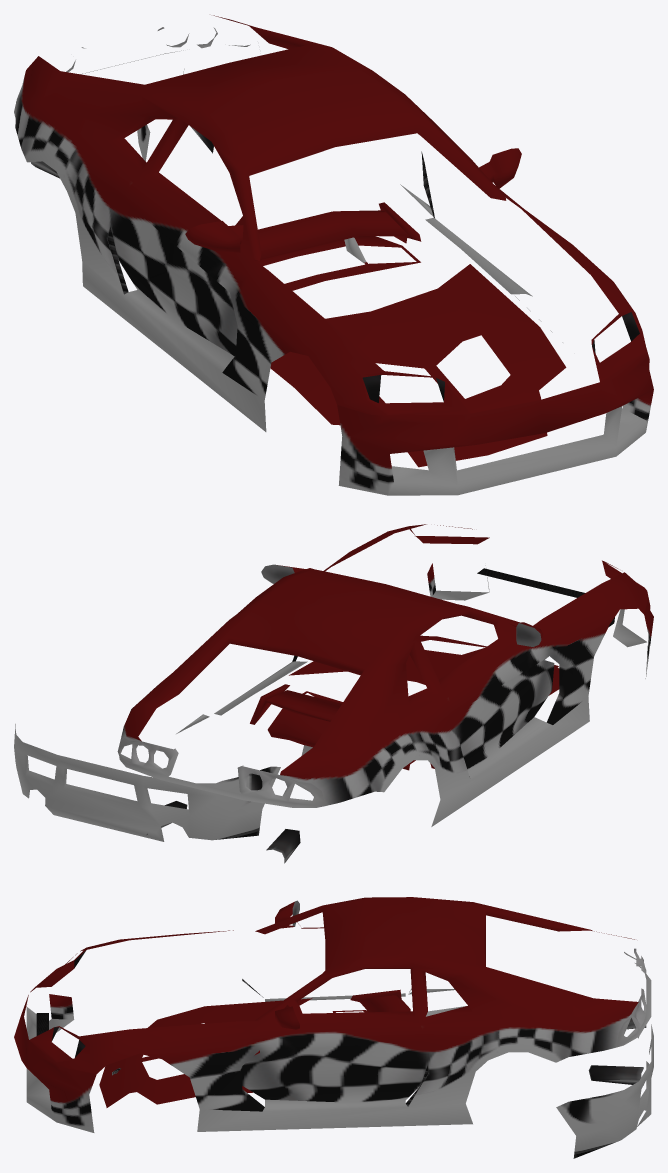
File: car-MSCL_Car12.glb
3 views of the same model, one above another, from view 1: azimuth 30°, elevation 25°; view 2: azimuth 150°, elevation 25°; view 3: azimuth 270°, elevation 25° (orthographic). The views are drawn at different scales.
Visible parts, largest first — view 1: MSCL_Car12; view 2: MSCL_Car12; view 3: MSCL_Car12.
Boxes of the visible parts, x1,y1,x2,y2 form: MSCL_Car12: (14, 15, 653, 495); MSCL_Car12: (14, 524, 653, 863); MSCL_Car12: (14, 897, 653, 1158).
Bounding box in the file's own units: 2.76 × 1.3 × 4.67.
5 materials, 5 textured.
